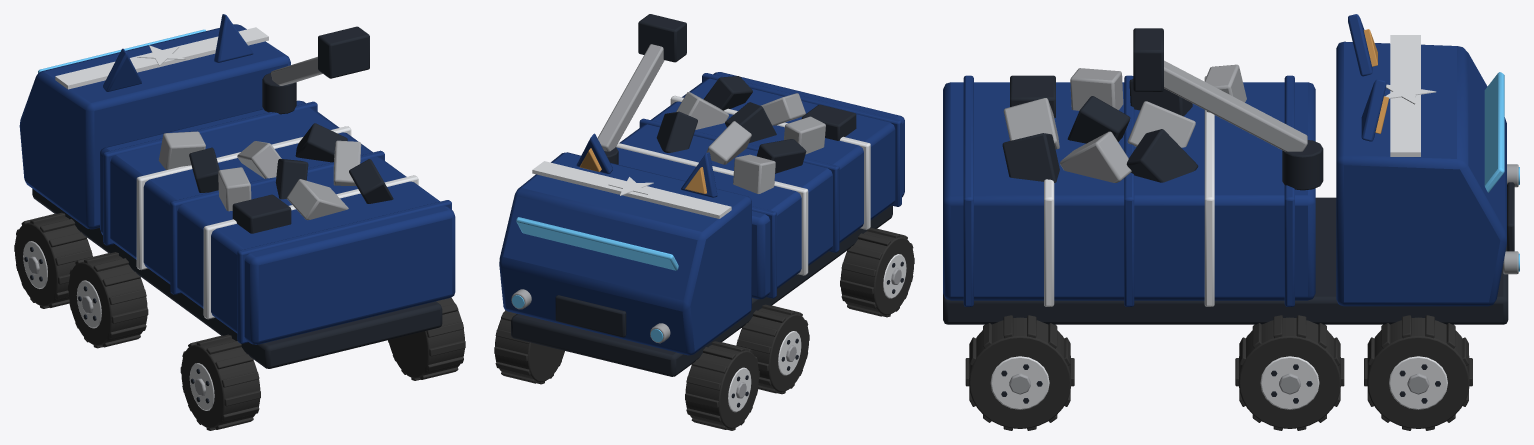
File: shibas_sammler.glb
3 renders of one model, left to right at view 1: azimuth 30°, elevation 25°; view 2: azimuth 150°, elevation 25°; view 3: azimuth 270°, elevation 25°, orthographic. The views are drawn at different scales.
Parts seen in each view (by area): view 1: bin, cab, frame, wheel_-1_2, wheel_-1_1, wheel_-1_0, wheel_1_1, cab_roof_stripe, claw, rib_0, scrap_0, rib_4 (+20 smaller); view 2: cab, bin, frame, wheel_-1_1, wheel_-1_0, cab_roof_stripe, wheel_-1_2, cab_window, arm, wheel_1_0, grill, claw (+20 smaller); view 3: bin, cab, frame, wheel_1_0, wheel_1_2, wheel_1_1, arm, cab_roof_stripe, rib_0, scrap_8, scrap_5, scrap_2 (+21 smaller).
Part boxes in pixels (x1,y1,x2,y2): bin: [100, 100, 455, 344]; cab: [19, 24, 290, 229]; frame: [32, 189, 442, 368]; wheel_-1_2: [68, 256, 147, 345]; wheel_-1_1: [181, 338, 260, 428]; wheel_-1_0: [14, 216, 90, 306]; wheel_1_1: [388, 297, 464, 378]; cab_roof_stripe: [55, 27, 268, 89]; claw: [318, 26, 369, 78]; rib_0: [237, 200, 451, 343]; scrap_0: [232, 194, 291, 233]; rib_4: [103, 101, 317, 245]; cab: [499, 152, 751, 355]; bin: [616, 72, 904, 299]; frame: [511, 205, 892, 376]; wheel_-1_1: [840, 231, 914, 315]; wheel_-1_0: [685, 345, 758, 428]; cab_roof_stripe: [532, 161, 731, 218]; wheel_-1_2: [738, 308, 809, 391]; cab_window: [516, 217, 678, 270]; arm: [597, 44, 664, 151]; wheel_1_0: [495, 310, 564, 382]; grill: [555, 295, 626, 337]; claw: [638, 14, 686, 62]; bin: [943, 82, 1315, 300]; cab: [1336, 41, 1506, 306]; frame: [943, 197, 1508, 324]; wheel_1_0: [1367, 317, 1469, 428]; wheel_1_2: [1238, 317, 1341, 428]; wheel_1_1: [969, 317, 1071, 428]; arm: [1164, 60, 1307, 151]; cab_roof_stripe: [1390, 35, 1420, 156]; rib_0: [963, 75, 973, 306]; scrap_8: [1126, 129, 1198, 182]; scrap_5: [1060, 131, 1131, 182]; scrap_2: [1002, 133, 1059, 182].
Bounding box in the file's own units: 1.34 × 1.57 × 2.25.
